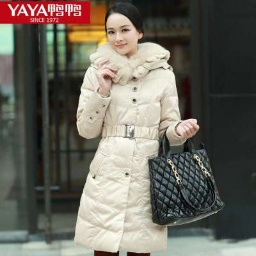face: (95, 1, 153, 62)
